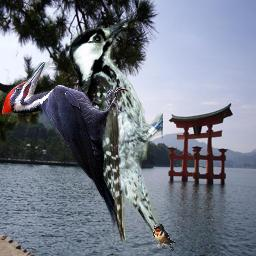Swallow: (152, 223, 176, 253)
Woodpecker: (2, 62, 128, 239), (68, 17, 163, 248)
